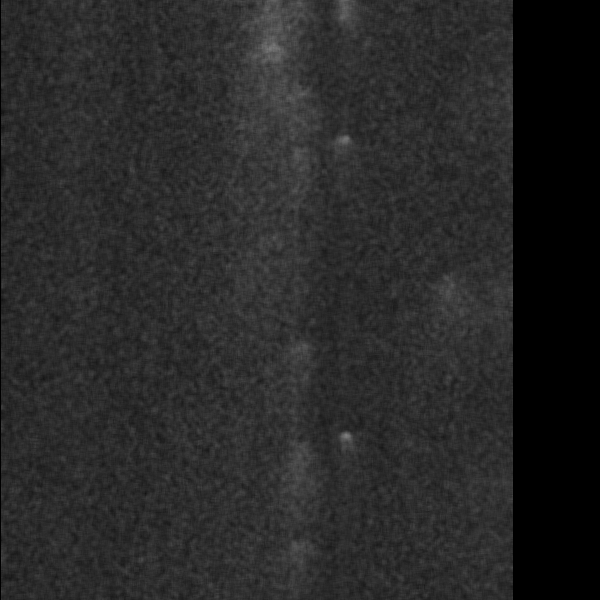spark: (284, 153, 299, 173)
